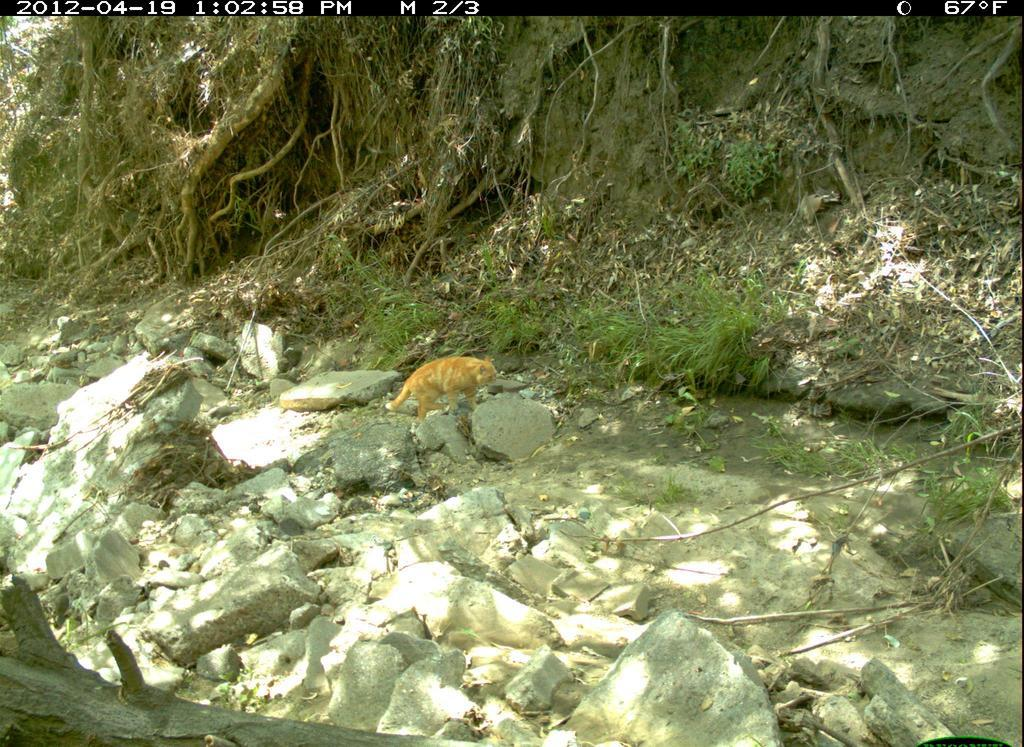cat: (376, 342, 514, 432)
